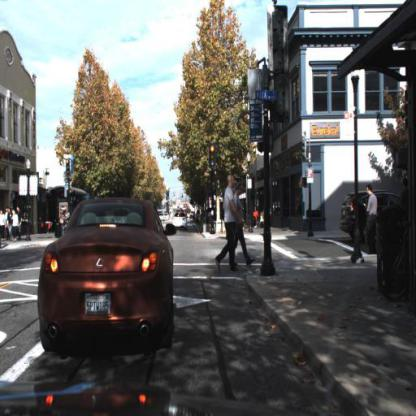car: (38, 195, 177, 352), (171, 207, 191, 235)
pedestrian: (215, 174, 244, 276), (232, 175, 253, 265), (366, 184, 380, 257), (363, 186, 378, 252), (13, 204, 21, 239), (6, 209, 14, 237), (25, 208, 31, 240), (62, 211, 69, 238), (8, 208, 13, 239)
trafficLight-Red: (210, 142, 217, 166), (66, 157, 71, 176)
